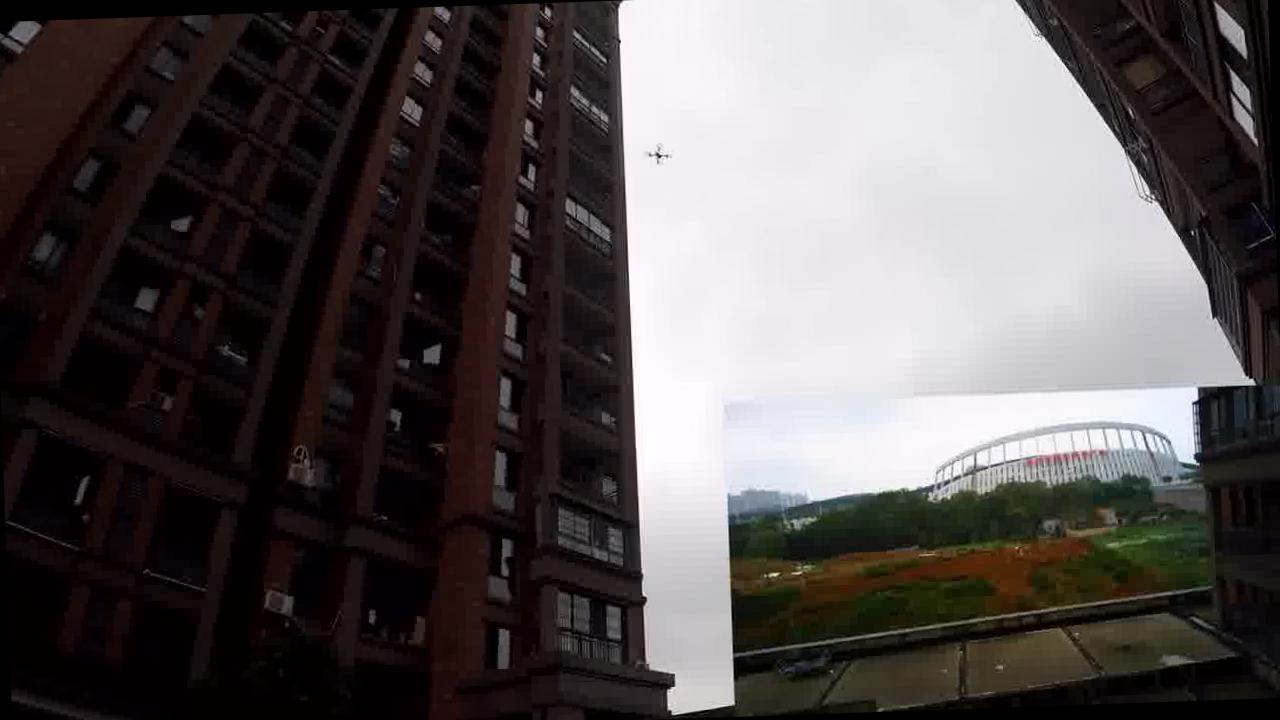drone: (640, 141, 676, 167)
